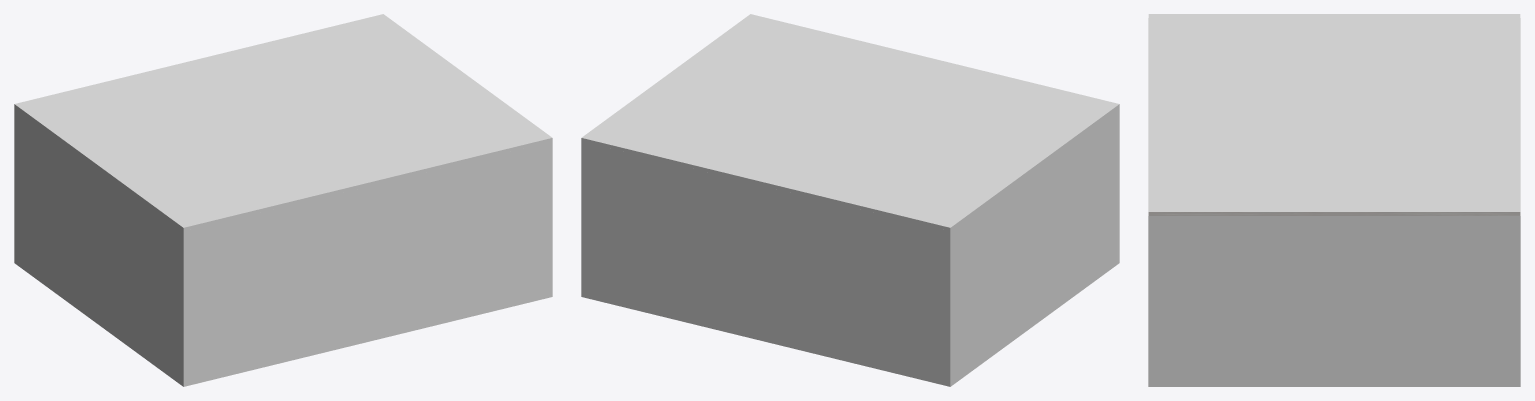
The model's file is RoomFixed.fbx.
3 views of the same model, side by side, from view 1: azimuth 30°, elevation 25°; view 2: azimuth 150°, elevation 25°; view 3: azimuth 270°, elevation 25° (orthographic). The views are drawn at different scales.
Visible parts, largest first — view 1: Floor, Roof; view 2: Floor, Roof; view 3: Roof, Floor.
Boxes of the visible parts, <box> form: Floor: <box>14,108,552,386</box>; Roof: <box>14,14,552,231</box>; Floor: <box>581,108,1119,386</box>; Roof: <box>581,14,1119,231</box>; Roof: <box>1148,14,1520,215</box>; Floor: <box>1148,18,1520,386</box>.
Size of the model in its own units: 1007 by 415 by 800.
